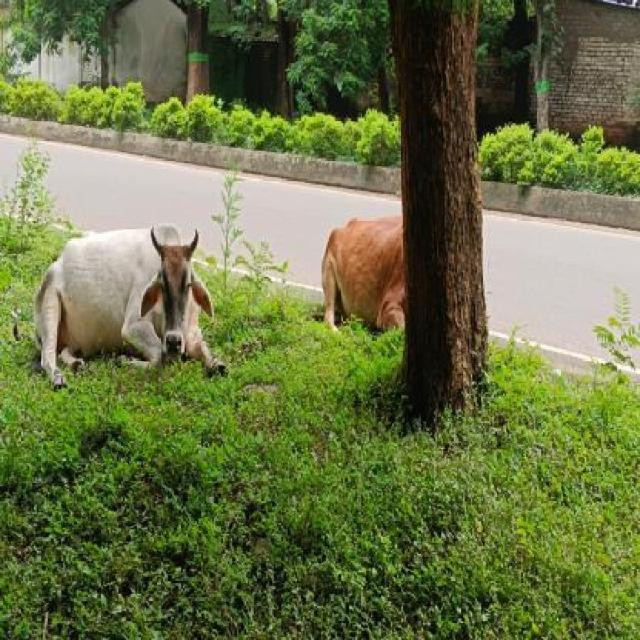cow: (47, 227, 213, 385)
